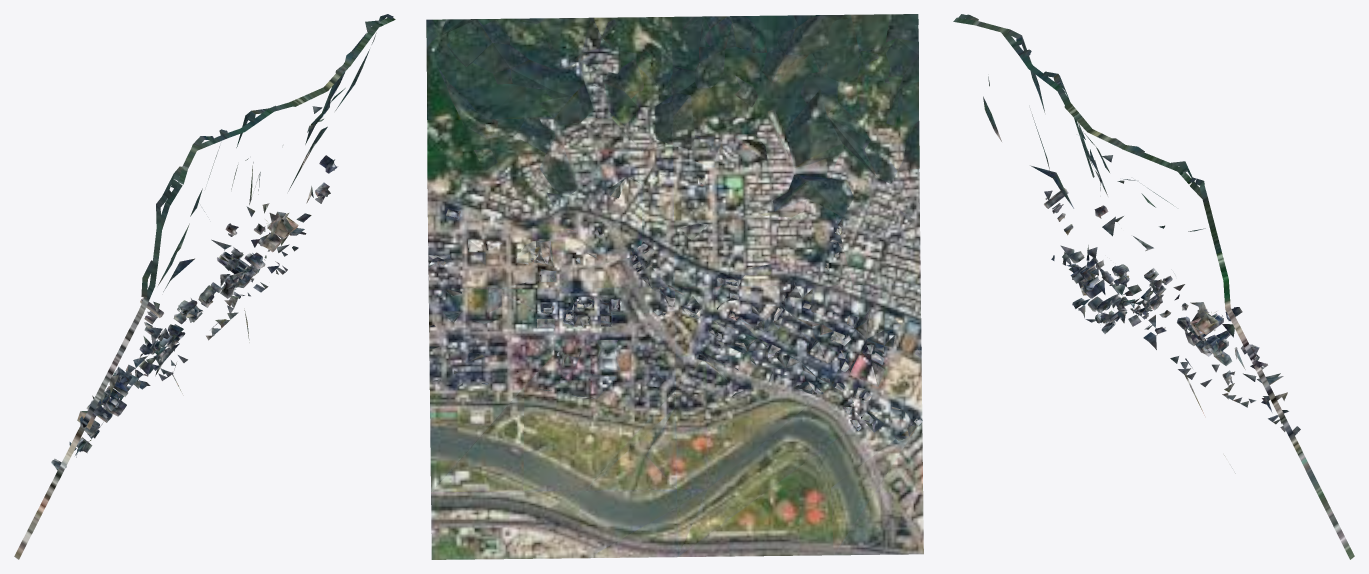
The picture shows the model from 3 angles, left to right: view 1: azimuth 30°, elevation 25°; view 2: azimuth 150°, elevation 25°; view 3: azimuth 270°, elevation 25°; orthographic projection. The views are drawn at different scales.
Size of the model in its own units: 2389 by 2324 by 1972.
Materials: 2 (2 with a texture image).
